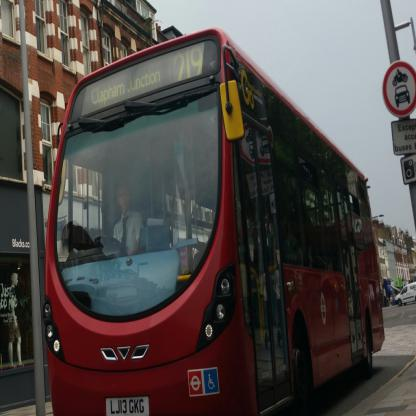Bus: (41, 25, 386, 416)
